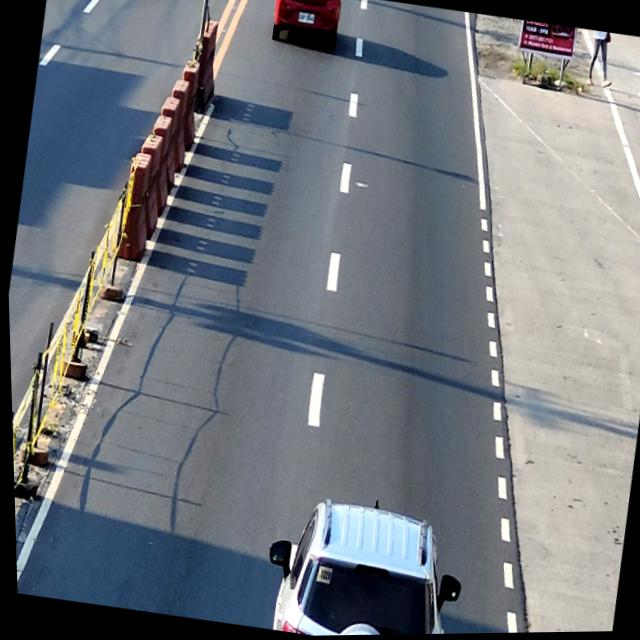Car: (252, 490, 468, 637), (270, 0, 344, 51)
License-Plate: (298, 13, 315, 25)
